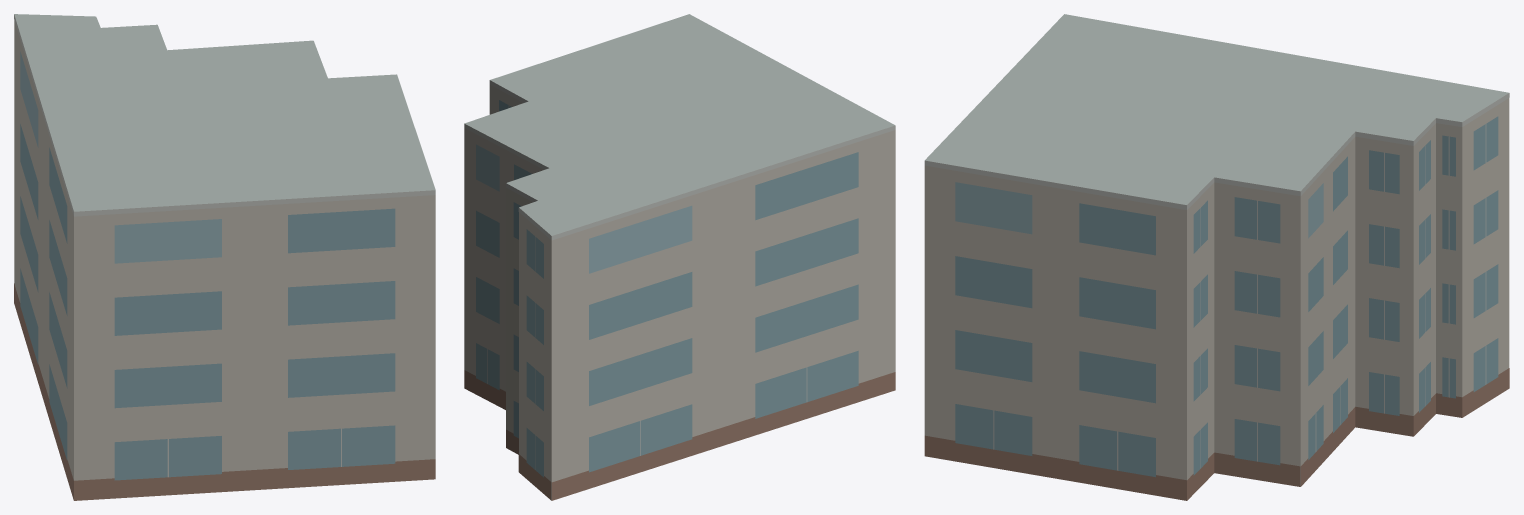
File: survey-upis-32577690.glb
3 renders of one model, left to right at view 1: azimuth 30°, elevation 25°; view 2: azimuth 150°, elevation 25°; view 3: azimuth 270°, elevation 25°, orthographic. The views are drawn at different scales.
Parts seen in each view (by area): view 1: survey-upis-32577690.tmp; view 2: survey-upis-32577690.tmp; view 3: survey-upis-32577690.tmp.
Boxes of the visible parts, bbox=[...] form: survey-upis-32577690.tmp: bbox=[14, 14, 435, 500]; survey-upis-32577690.tmp: bbox=[464, 14, 895, 500]; survey-upis-32577690.tmp: bbox=[924, 14, 1509, 500].
Size of the model in its own units: 20.19 by 14.55 by 26.09.
